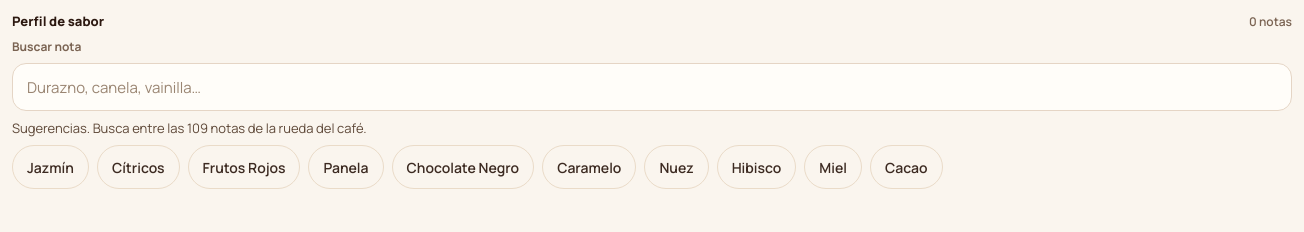
NotaPicker › busca sin tildes, muestra como máximo 10 y avisa del total
Type "a" into the search field labelled "Buscar nota" at (652, 87), box [12,63,1292,111]
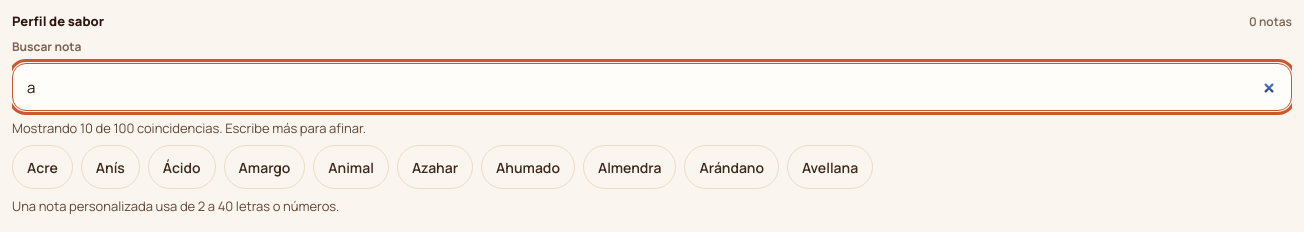
Expected: the message reads "Mostrando 10 de 100 coincidencias. Escribe más para afinar.", [12,119,366,137]
Replace the text in the search field labelled "Buscar nota" with "jazmin" at (652, 87), box [12,63,1292,111]
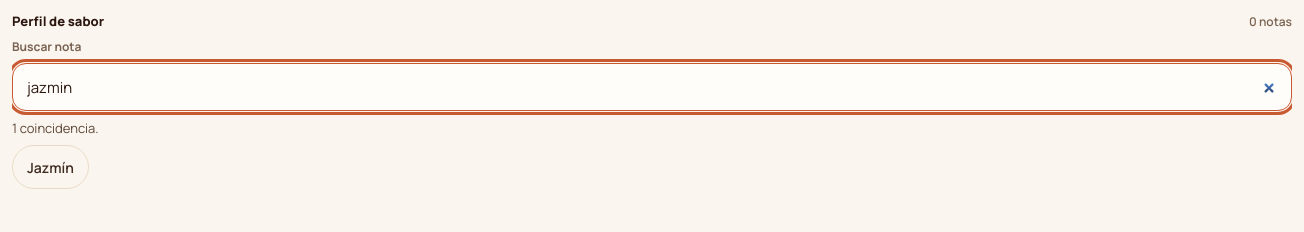
Expected: the buttons read "Jazmín", in this order, [12,145,89,189]
